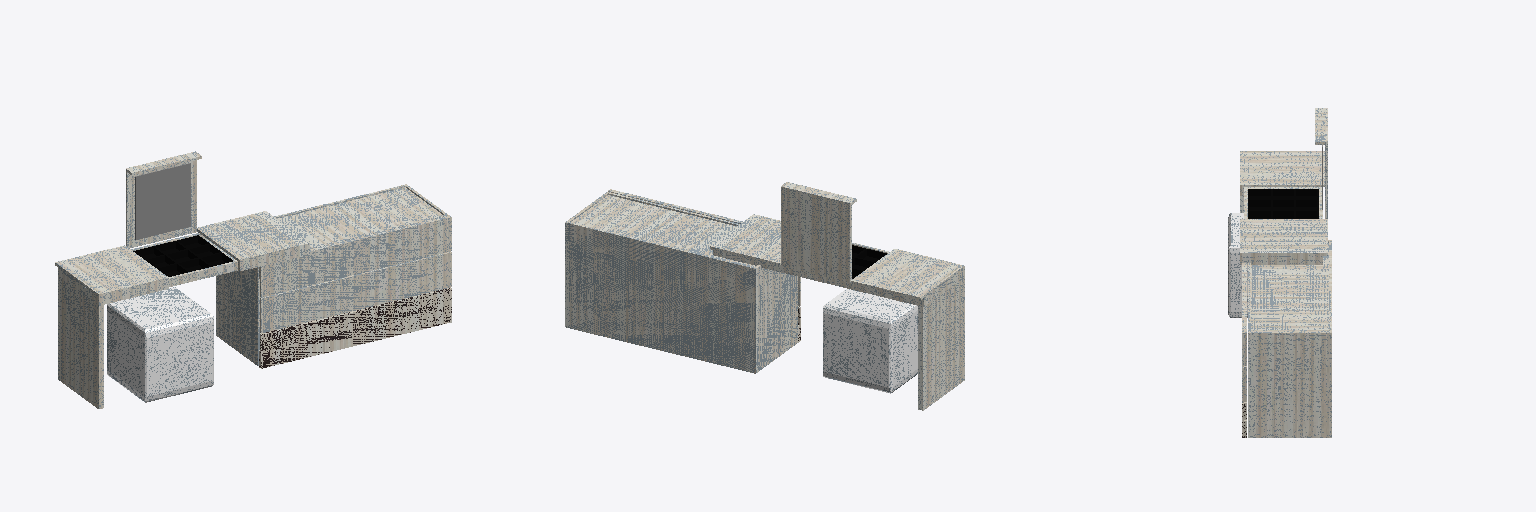
The picture shows the model from 3 angles: view 1: azimuth 30°, elevation 25°; view 2: azimuth 150°, elevation 25°; view 3: azimuth 270°, elevation 25°; orthographic projection.
Parts seen in each view (by area): view 1: Mesh22 Ottoman_Half2 Modern_ottoman1 Component_2_1 Model, Mesh27 Box03_2_1 SFN271_LOW_CHEST_WITH_BLACK_GLASS_TOP1 Componen, Mesh29 Box04_2_1 SFN271_LOW_CHEST_WITH_BLACK_GLASS_TOP1 Componen, Mesh25 Box02_2_1 SFN271_LOW_CHEST_WITH_BLACK_GLASS_TOP1 Componen, Mesh1 Group1 Model, Mesh31 Box05_2_1 SFN271_LOW_CHEST_WITH_BLACK_GLASS_TOP1 Componen, Mesh23 Box01_2_1 SFN271_LOW_CHEST_WITH_BLACK_GLASS_TOP1 Componen, Mesh17 Box08_1 MKJ140_MAKEUP_TABLE_TOP1 Component_2_1 Model, Mesh13 Box04_1 MKJ140_MAKEUP_TABLE_TOP1 Component_2_1 Model, Mesh9 Box02_1 MKJ140_MAKEUP_TABLE_TOP1 Component_2_1 Model, Mesh21 Ottoman_Half1 Modern_ottoman1 Component_2_1 Model, Mesh19 Box09_1 MKJ140_MAKEUP_TABLE_TOP1 Component_2_1 Model (+5 smaller); view 2: Mesh23 Box01_2_1 SFN271_LOW_CHEST_WITH_BLACK_GLASS_TOP1 Componen, Mesh21 Ottoman_Half1 Modern_ottoman1 Component_2_1 Model, Mesh3 Box06_1 MKJ140_MAKEUP_TABLE_TOP1 Component_2_1 Model, Mesh1 Group1 Model, Mesh31 Box05_2_1 SFN271_LOW_CHEST_WITH_BLACK_GLASS_TOP1 Componen, Mesh13 Box04_1 MKJ140_MAKEUP_TABLE_TOP1 Component_2_1 Model, Mesh9 Box02_1 MKJ140_MAKEUP_TABLE_TOP1 Component_2_1 Model, Mesh7 Box01_1 MKJ140_MAKEUP_TABLE_TOP1 Component_2_1 Model, Mesh22 Ottoman_Half2 Modern_ottoman1 Component_2_1 Model, Mesh19 Box09_1 MKJ140_MAKEUP_TABLE_TOP1 Component_2_1 Model; view 3: Mesh23 Box01_2_1 SFN271_LOW_CHEST_WITH_BLACK_GLASS_TOP1 Componen, Mesh31 Box05_2_1 SFN271_LOW_CHEST_WITH_BLACK_GLASS_TOP1 Componen, Mesh9 Box02_1 MKJ140_MAKEUP_TABLE_TOP1 Component_2_1 Model, Mesh13 Box04_1 MKJ140_MAKEUP_TABLE_TOP1 Component_2_1 Model, Mesh19 Box09_1 MKJ140_MAKEUP_TABLE_TOP1 Component_2_1 Model, Mesh22 Ottoman_Half2 Modern_ottoman1 Component_2_1 Model, Mesh7 Box01_1 MKJ140_MAKEUP_TABLE_TOP1 Component_2_1 Model.
Part boxes in pixels (bbox=[...]): Mesh22 Ottoman_Half2 Modern_ottoman1 Component_2_1 Model: bbox=[125, 300, 213, 402]; Mesh27 Box03_2_1 SFN271_LOW_CHEST_WITH_BLACK_GLASS_TOP1 Componen: bbox=[260, 252, 451, 333]; Mesh29 Box04_2_1 SFN271_LOW_CHEST_WITH_BLACK_GLASS_TOP1 Componen: bbox=[259, 215, 451, 297]; Mesh25 Box02_2_1 SFN271_LOW_CHEST_WITH_BLACK_GLASS_TOP1 Componen: bbox=[259, 288, 451, 368]; Mesh1 Group1 Model: bbox=[58, 276, 103, 408]; Mesh31 Box05_2_1 SFN271_LOW_CHEST_WITH_BLACK_GLASS_TOP1 Componen: bbox=[278, 187, 441, 246]; Mesh23 Box01_2_1 SFN271_LOW_CHEST_WITH_BLACK_GLASS_TOP1 Componen: bbox=[216, 184, 447, 365]; Mesh17 Box08_1 MKJ140_MAKEUP_TABLE_TOP1 Component_2_1 Model: bbox=[135, 163, 190, 239]; Mesh13 Box04_1 MKJ140_MAKEUP_TABLE_TOP1 Component_2_1 Model: bbox=[55, 245, 168, 296]; Mesh9 Box02_1 MKJ140_MAKEUP_TABLE_TOP1 Component_2_1 Model: bbox=[197, 211, 309, 262]; Mesh21 Ottoman_Half1 Modern_ottoman1 Component_2_1 Model: bbox=[107, 287, 191, 387]; Mesh19 Box09_1 MKJ140_MAKEUP_TABLE_TOP1 Component_2_1 Model: bbox=[133, 235, 232, 276]; Mesh23 Box01_2_1 SFN271_LOW_CHEST_WITH_BLACK_GLASS_TOP1 Componen: bbox=[565, 192, 797, 373]; Mesh21 Ottoman_Half1 Modern_ottoman1 Component_2_1 Model: bbox=[823, 291, 910, 393]; Mesh3 Box06_1 MKJ140_MAKEUP_TABLE_TOP1 Component_2_1 Model: bbox=[781, 185, 851, 282]; Mesh1 Group1 Model: bbox=[918, 277, 964, 410]; Mesh31 Box05_2_1 SFN271_LOW_CHEST_WITH_BLACK_GLASS_TOP1 Componen: bbox=[572, 195, 754, 266]; Mesh13 Box04_1 MKJ140_MAKEUP_TABLE_TOP1 Component_2_1 Model: bbox=[851, 249, 964, 300]; Mesh9 Box02_1 MKJ140_MAKEUP_TABLE_TOP1 Component_2_1 Model: bbox=[710, 214, 780, 265]; Mesh7 Box01_1 MKJ140_MAKEUP_TABLE_TOP1 Component_2_1 Model: bbox=[713, 243, 962, 306]; Mesh22 Ottoman_Half2 Modern_ottoman1 Component_2_1 Model: bbox=[844, 289, 917, 378]; Mesh19 Box09_1 MKJ140_MAKEUP_TABLE_TOP1 Component_2_1 Model: bbox=[852, 245, 886, 278]; Mesh23 Box01_2_1 SFN271_LOW_CHEST_WITH_BLACK_GLASS_TOP1 Componen: bbox=[1248, 240, 1331, 437]; Mesh31 Box05_2_1 SFN271_LOW_CHEST_WITH_BLACK_GLASS_TOP1 Componen: bbox=[1251, 243, 1328, 330]; Mesh9 Box02_1 MKJ140_MAKEUP_TABLE_TOP1 Component_2_1 Model: bbox=[1240, 219, 1327, 255]; Mesh13 Box04_1 MKJ140_MAKEUP_TABLE_TOP1 Component_2_1 Model: bbox=[1240, 151, 1324, 186]; Mesh19 Box09_1 MKJ140_MAKEUP_TABLE_TOP1 Component_2_1 Model: bbox=[1248, 189, 1318, 218]; Mesh22 Ottoman_Half2 Modern_ottoman1 Component_2_1 Model: bbox=[1228, 213, 1247, 317]; Mesh7 Box01_1 MKJ140_MAKEUP_TABLE_TOP1 Component_2_1 Model: bbox=[1244, 187, 1322, 264].
Bounding box in the file's own units: 92.41 × 47.96 × 23.62.
Materials: 6 (2 with a texture image).